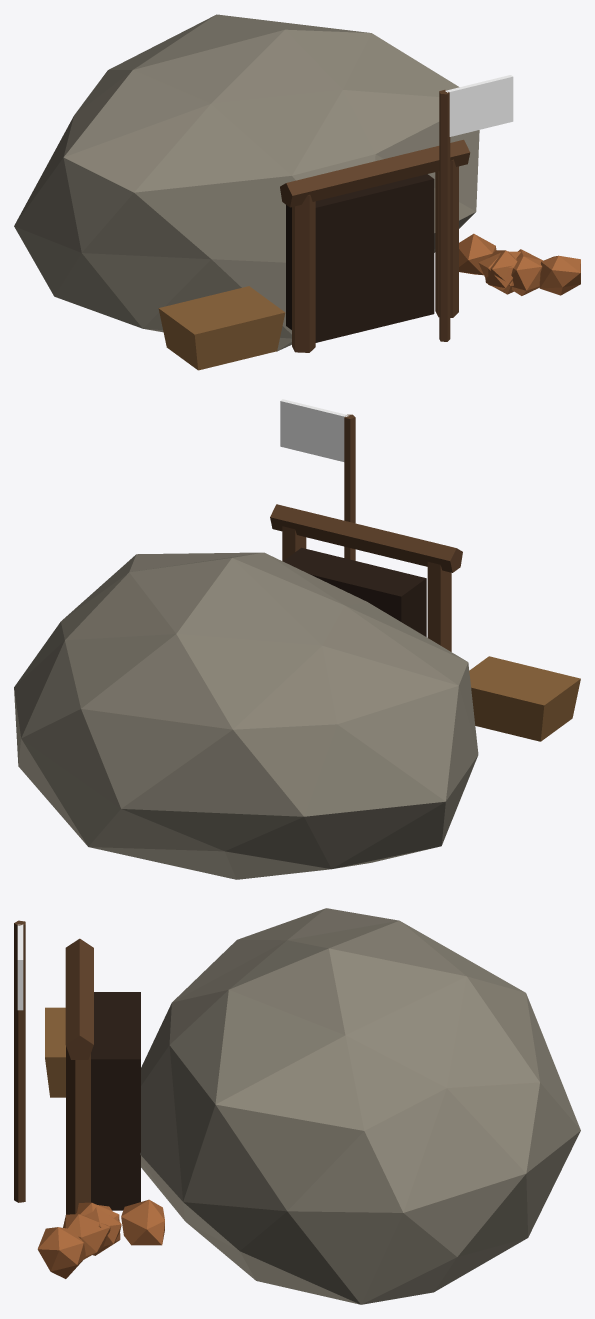
File: mine.glb
3 renders of one model, top to bottom at view 1: azimuth 30°, elevation 25°; view 2: azimuth 150°, elevation 25°; view 3: azimuth 270°, elevation 25°, orthographic. The views are drawn at different scales.
Visible parts, largest first — view 1: part, part.001, part.010, part.004, part.002, part.012, part.011, part.003, part.006, part.005, part.007, part.008 (+1 smaller); view 2: part, part.010, part.001, part.004, part.012, part.002, part.011; view 3: part, part.001, part.003, part.004, part.011, part.010, part.006, part.005, part.007, part.009, part.012.
Boxes of the visible parts, bbox=[...] form: part: bbox=[14, 14, 479, 351]; part.001: bbox=[286, 174, 434, 342]; part.010: bbox=[158, 286, 285, 370]; part.004: bbox=[280, 139, 470, 207]; part.002: bbox=[292, 195, 315, 352]; part.012: bbox=[445, 75, 513, 136]; part.011: bbox=[439, 90, 450, 341]; part.003: bbox=[435, 159, 458, 317]; part.006: bbox=[539, 255, 580, 295]; part.005: bbox=[459, 233, 496, 275]; part.007: bbox=[511, 249, 542, 295]; part.008: bbox=[485, 250, 517, 294]; part: bbox=[14, 552, 478, 879]; part.010: bbox=[469, 656, 580, 741]; part.001: bbox=[283, 547, 426, 636]; part.004: bbox=[270, 504, 462, 572]; part.012: bbox=[280, 399, 349, 461]; part.002: bbox=[427, 562, 451, 651]; part.011: bbox=[344, 414, 355, 560]; part: bbox=[140, 908, 580, 1304]; part.001: bbox=[91, 992, 140, 1210]; part.003: bbox=[66, 1046, 90, 1214]; part.004: bbox=[65, 938, 93, 1059]; part.011: bbox=[14, 920, 25, 1202]; part.010: bbox=[45, 1007, 65, 1097]; part.006: bbox=[37, 1227, 85, 1278]; part.005: bbox=[121, 1199, 164, 1245]; part.007: bbox=[63, 1214, 110, 1259]; part.009: bbox=[76, 1205, 121, 1246]; part.012: bbox=[17, 924, 23, 1010].
Bounding box in the file's own units: 2.95 × 2.13 × 3.06.
